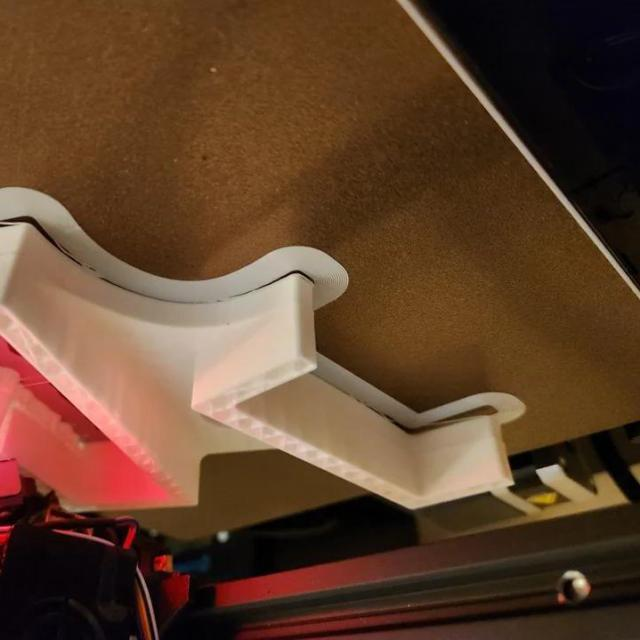Warping: (448, 400, 499, 430)
